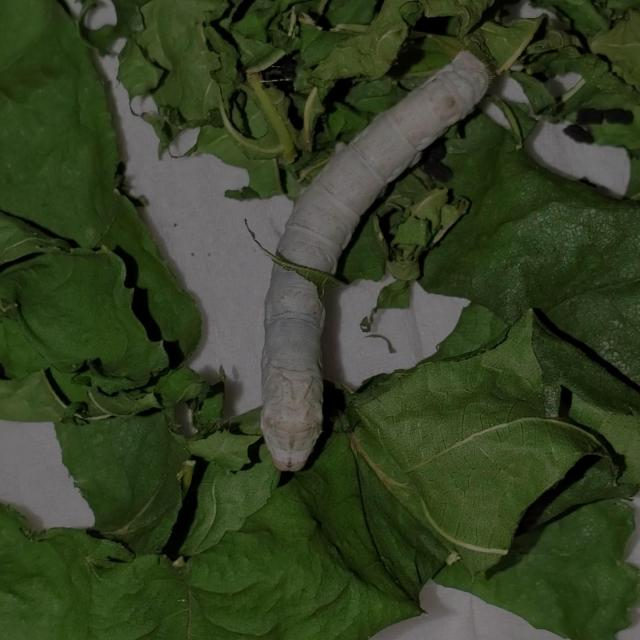Healthy: (235, 33, 518, 496)
